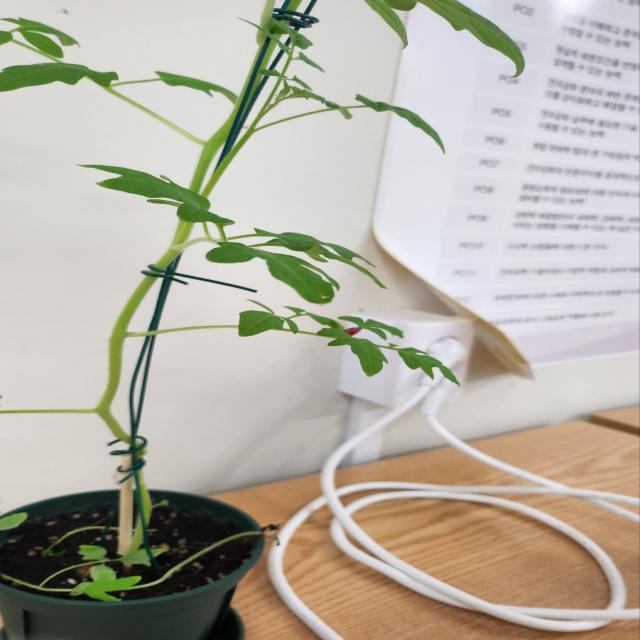bug: (334, 319, 388, 347)
